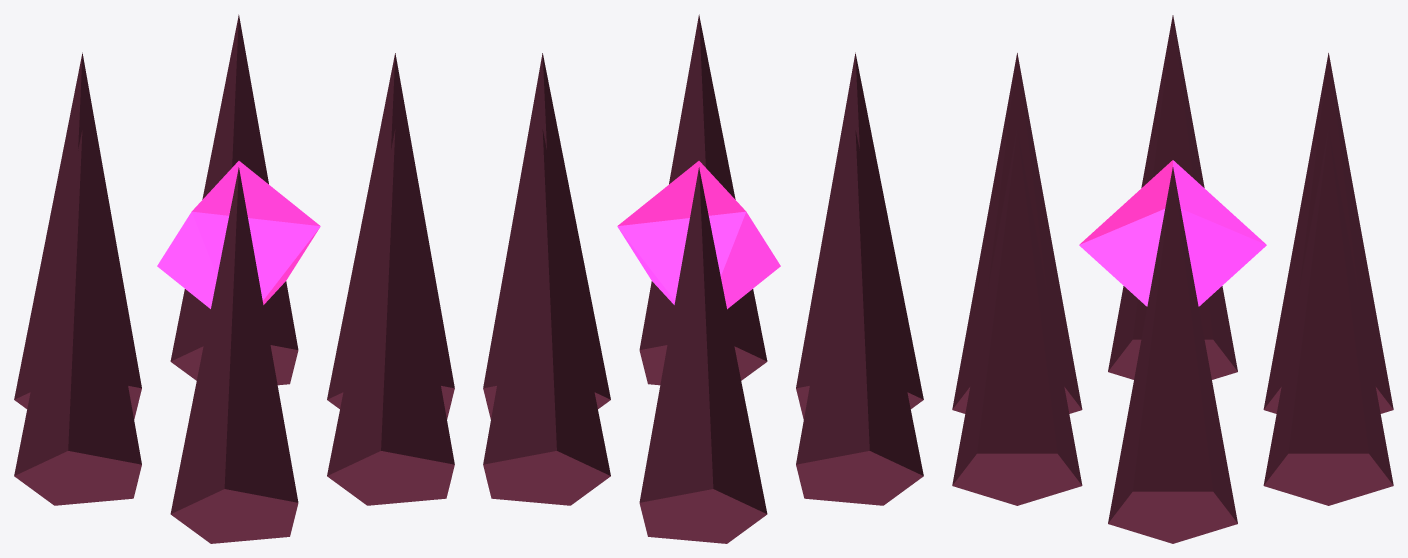
The model's file is hazard.glb.
3 views of the same model, side by side, from view 1: azimuth 30°, elevation 25°; view 2: azimuth 150°, elevation 25°; view 3: azimuth 270°, elevation 25° (orthographic).
Parts seen in each view (by area): view 1: hazard; view 2: hazard; view 3: hazard.
Part boxes in pixels (left/top/right/bottom): hazard: left=14, top=14, right=454, bottom=543; hazard: left=483, top=14, right=923, bottom=543; hazard: left=952, top=15, right=1393, bottom=543.
Size of the model in its own units: 1.13 by 0.9 by 1.03.
